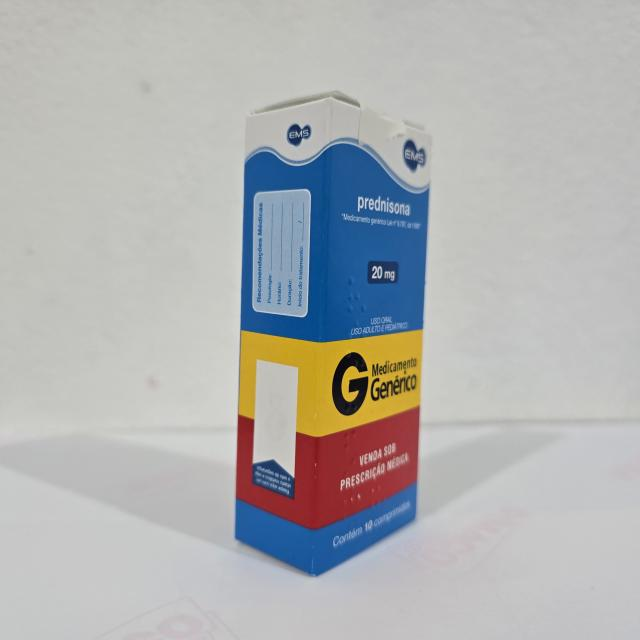prednisona: (227, 85, 436, 583)
